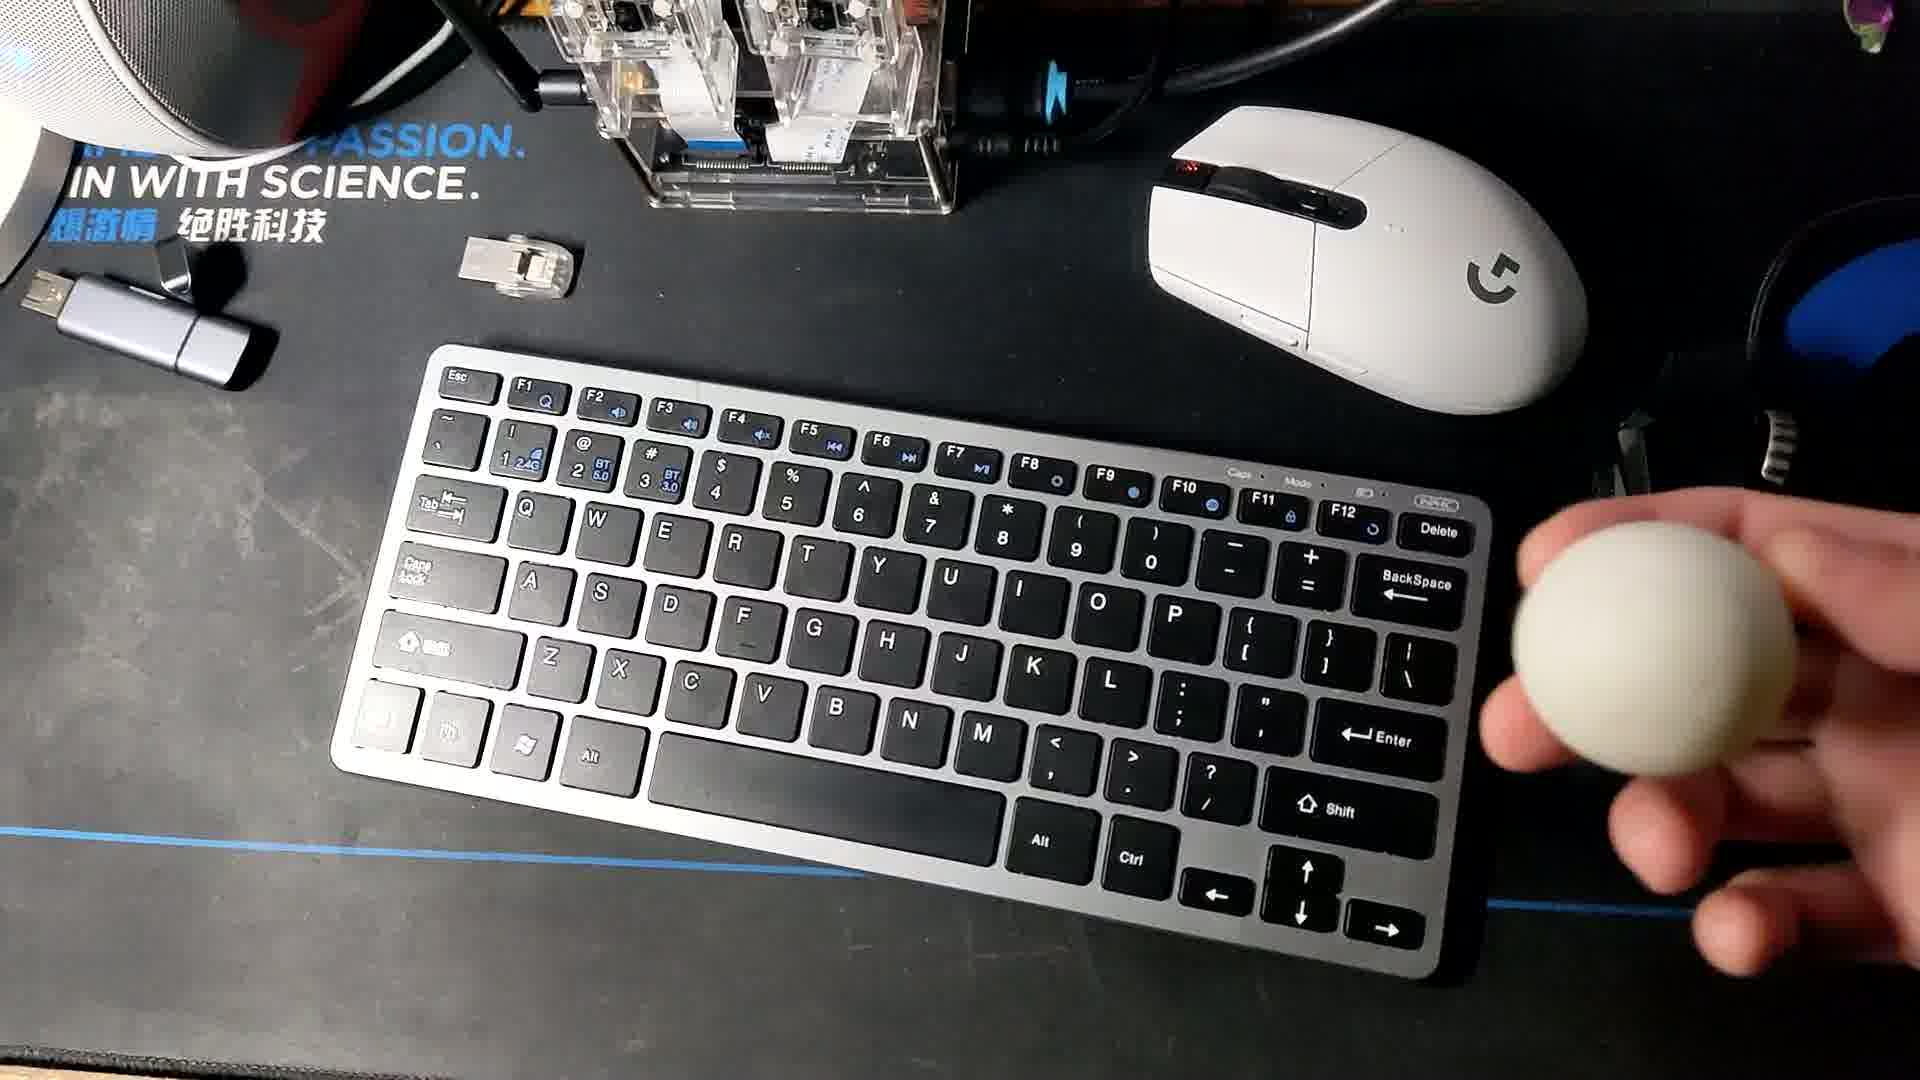Ball: (1516, 517, 1800, 770)
